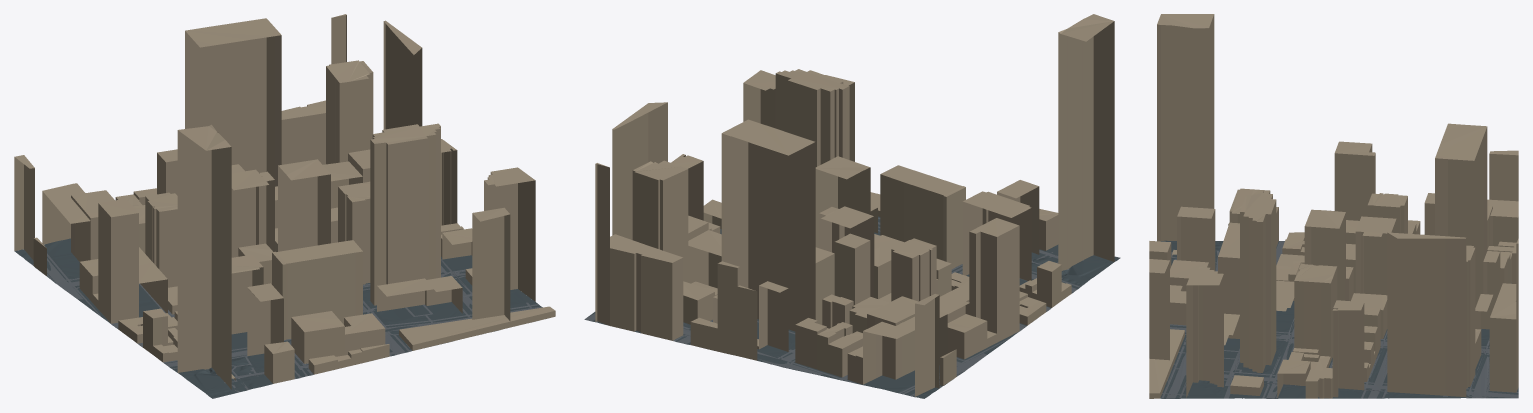
The model's file is epsg26910-1439-10893.conforming.lod0.glb.
3 views of the same model, side by side, from view 1: azimuth 30°, elevation 25°; view 2: azimuth 150°, elevation 25°; view 3: azimuth 270°, elevation 25° (orthographic). The views are drawn at different scales.
Visible parts, largest first — view 1: epsg26910-1439-10893-lod0; view 2: epsg26910-1439-10893-lod0; view 3: epsg26910-1439-10893-lod0.
Part boxes in pixels (x1,y1,x2,y2): epsg26910-1439-10893-lod0: (14,14,555,398); epsg26910-1439-10893-lod0: (584,14,1120,398); epsg26910-1439-10893-lod0: (1149,14,1518,398).
Bounding box in the file's own units: 384 × 263 × 384.
